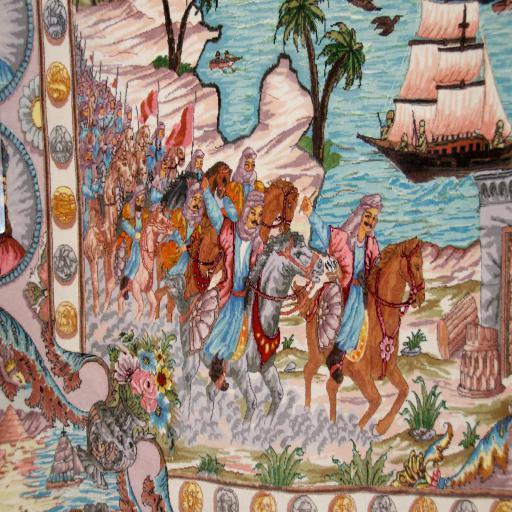horse: (159, 226, 325, 434), (82, 125, 232, 321), (291, 233, 427, 439), (82, 152, 134, 312), (116, 204, 178, 328), (256, 175, 302, 244), (205, 162, 233, 201), (161, 146, 187, 183)
